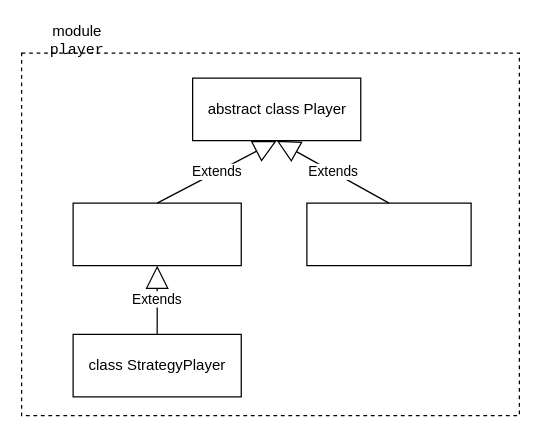
This 543x438 diagram has some shape labels left out. The centre of each missing label's shape, as x and y in pixels:
class HumanPlayer: point (388, 234)
class RandomPlayer: point (156, 234)
